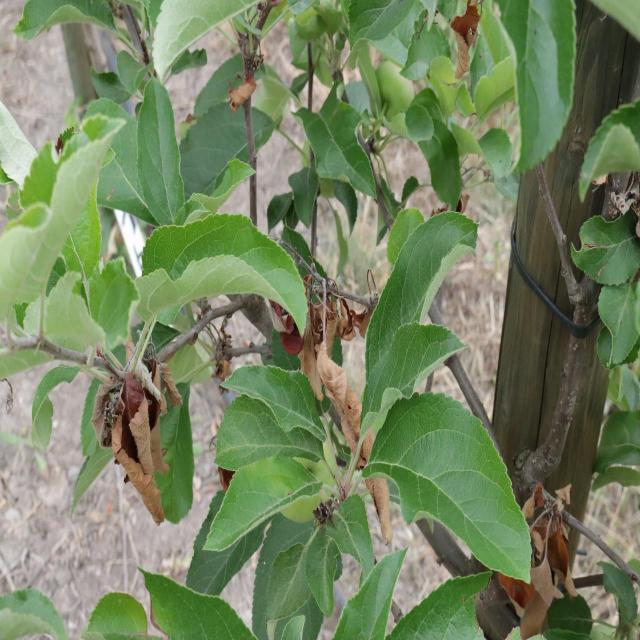-FireBlight-: (98, 359, 184, 533), (270, 269, 372, 393), (508, 495, 578, 625), (326, 385, 388, 480), (362, 480, 392, 546), (222, 73, 260, 114), (456, 8, 476, 82)
